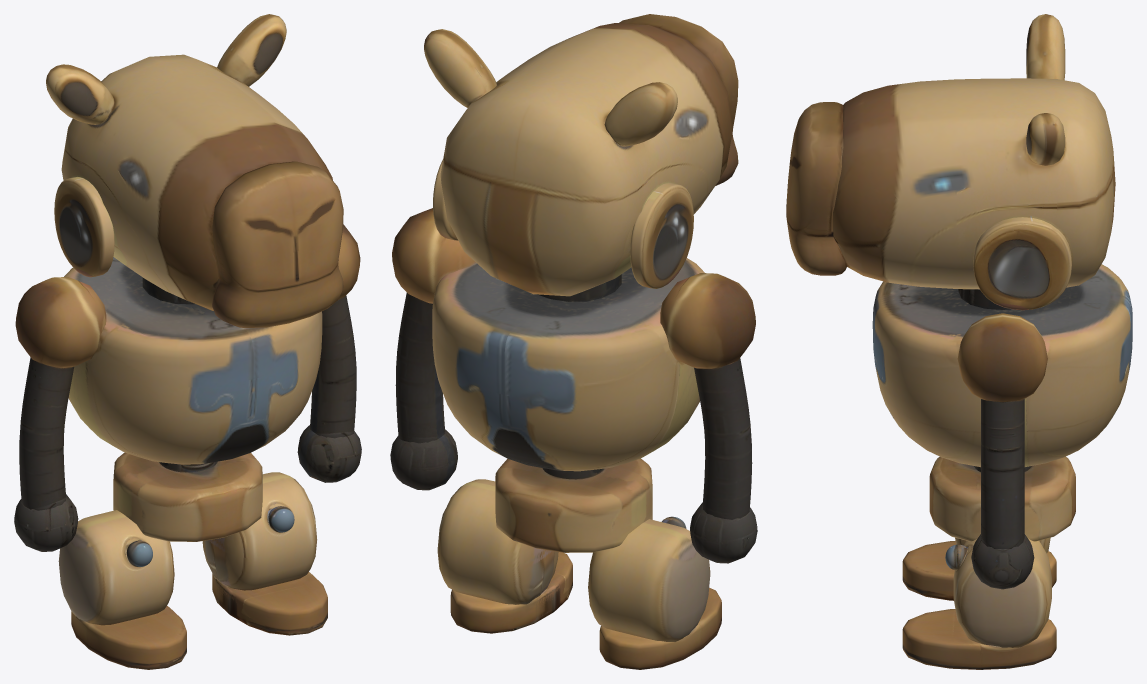
File: capi.glb
3 views of the same model, side by side, from view 1: azimuth 30°, elevation 25°; view 2: azimuth 150°, elevation 25°; view 3: azimuth 270°, elevation 25° (orthographic). The views are drawn at different scales.
Bounding box in the file's own units: 1.27 × 2 × 1.14.
Materials: 1 (1 with a texture image).
